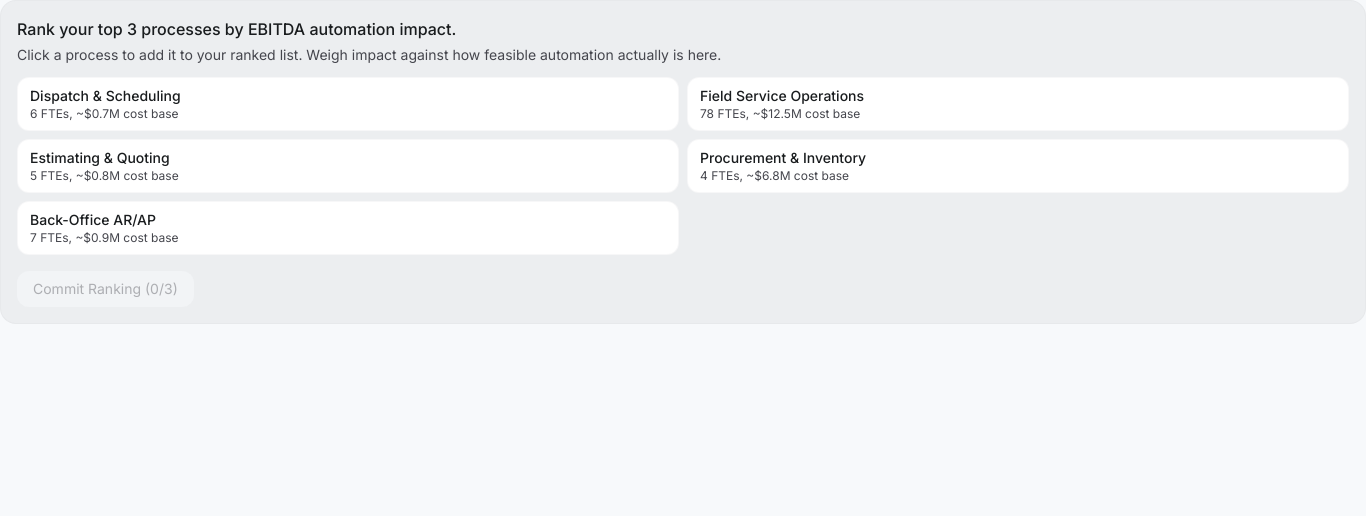
RankingStage › requires exactly 3 picks before commit
Check: the button "Commit Ranking (0/3)" is disabled, box x1=17 y1=271 x2=194 y2=307
Click the button "Dispatch & Scheduling 6 FTEs, ~$0.7M cost base".
click(105, 96)  # box x1=17 y1=77 x2=679 y2=131
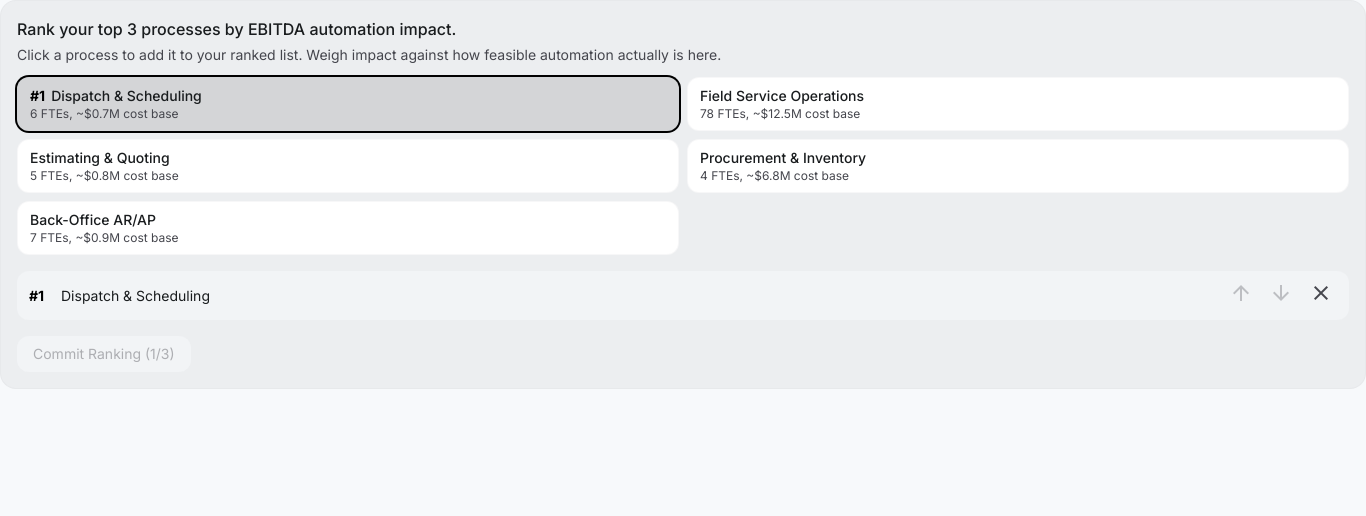
Click the button "Procurement & Inventory 4 FTEs, ~$6.8M cost base".
click(783, 158)  # box x1=687 y1=139 x2=1349 y2=193
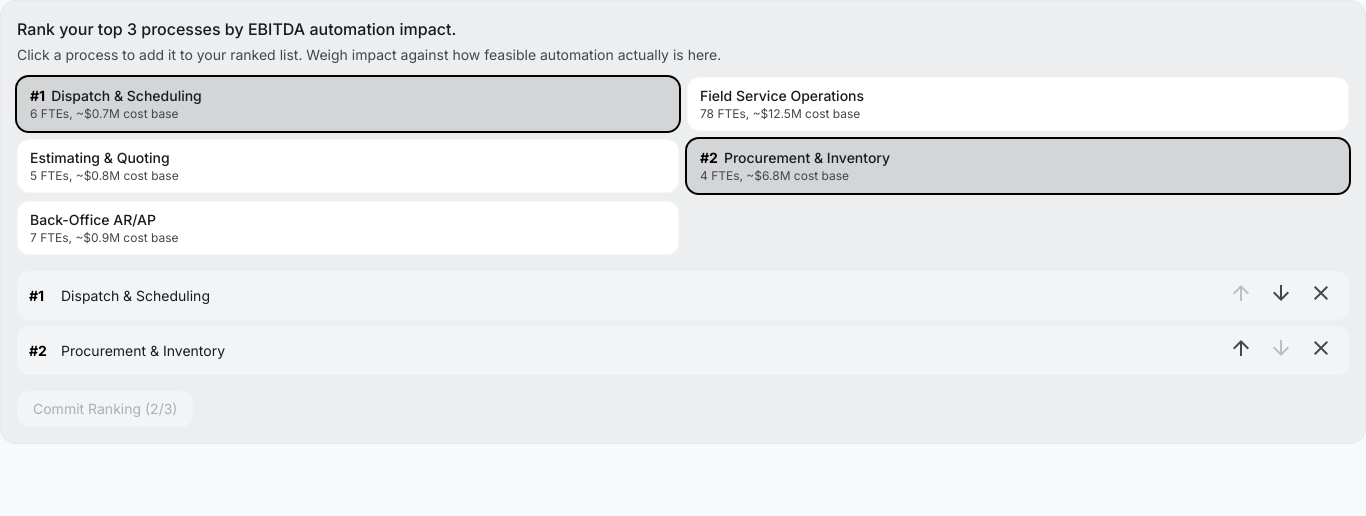
Check: the button "Commit Ranking (2/3)" is disabled, box x1=17 y1=391 x2=194 y2=427
Check: the button "Commit Ranking (2/3)" is shown, box x1=17 y1=391 x2=194 y2=427
Click the button "Back-Office AR/AP 7 FTEs, ~$0.9M cost base".
click(93, 220)  # box x1=17 y1=201 x2=679 y2=255
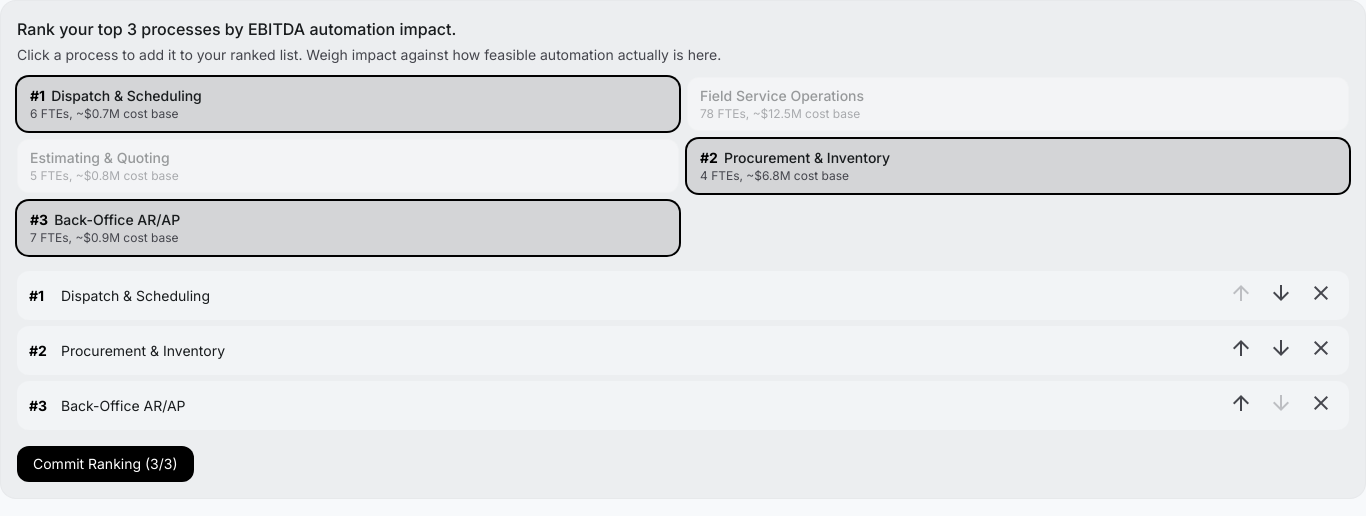
Check: the button "Commit Ranking (3/3)" is enabled, box x1=17 y1=446 x2=194 y2=482
